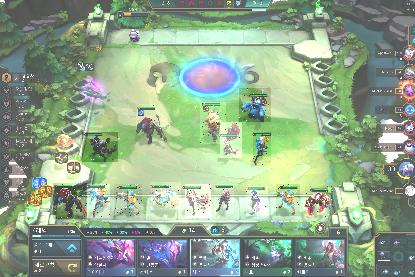1_diana: (214, 184, 234, 214)
1_leesin: (86, 184, 110, 218), (253, 132, 271, 166)
1_nunu: (239, 88, 271, 122)
1_olaf: (305, 186, 333, 218)
1_rakan: (185, 184, 211, 218), (220, 122, 242, 158)
1_rengar: (136, 104, 170, 146), (53, 183, 87, 219)
1_seraphine: (151, 182, 181, 210)
1_sylas: (82, 132, 118, 162)
1_varus: (246, 186, 268, 216)
1_volibear: (200, 102, 226, 144)
1_zeri: (114, 184, 142, 216), (276, 184, 300, 216)
